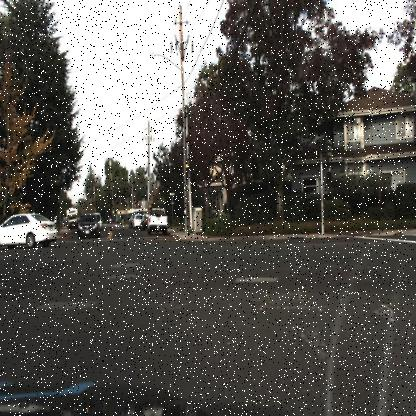car: (0, 210, 60, 249), (144, 200, 170, 234), (75, 209, 100, 237)
trafficLight-Red: (181, 154, 193, 186), (184, 156, 190, 183)
truck: (64, 204, 79, 233)
